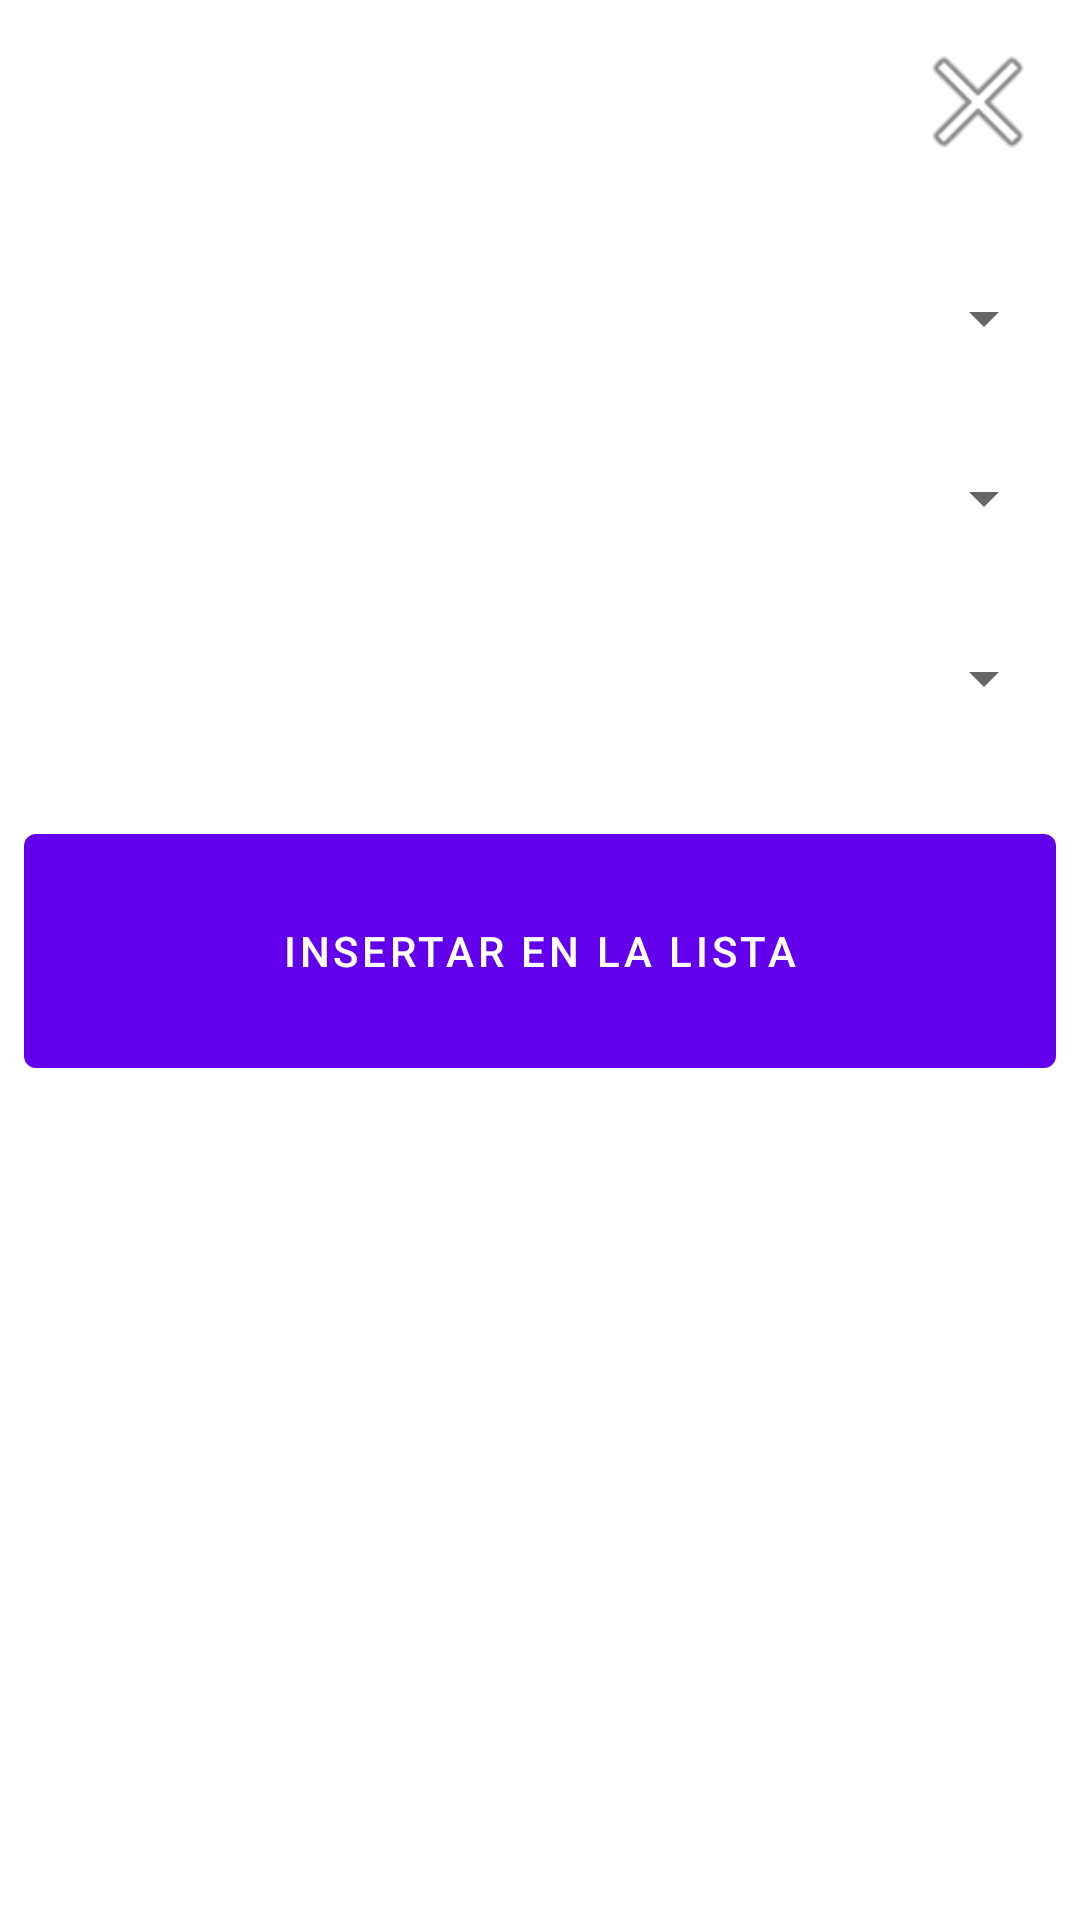

Where to tap for icons on this 1080 x 1920 app screen, as (x=x, y=y):
close clear cancel: (x=978, y=102)
